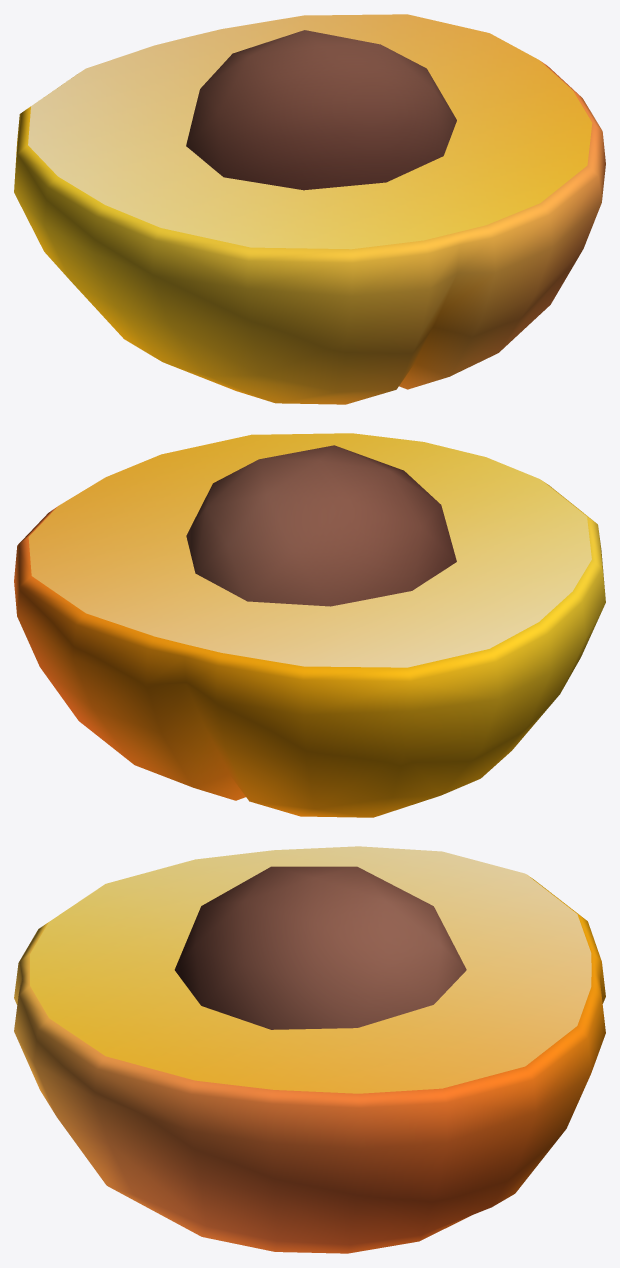
File: peach_002.fbx
3 renders of one model, top to bottom at view 1: azimuth 30°, elevation 25°; view 2: azimuth 150°, elevation 25°; view 3: azimuth 270°, elevation 25°, orthographic. The views are drawn at different scales.
Visible parts, largest first — view 1: peach_002; view 2: peach_002; view 3: peach_002.
Part boxes in pixels (x1,y1,x2,y2): peach_002: (14,14,605,404); peach_002: (14,433,605,817); peach_002: (14,846,605,1253).
Bounding box in the file's own units: 8.79 × 8.47 × 5.35.
